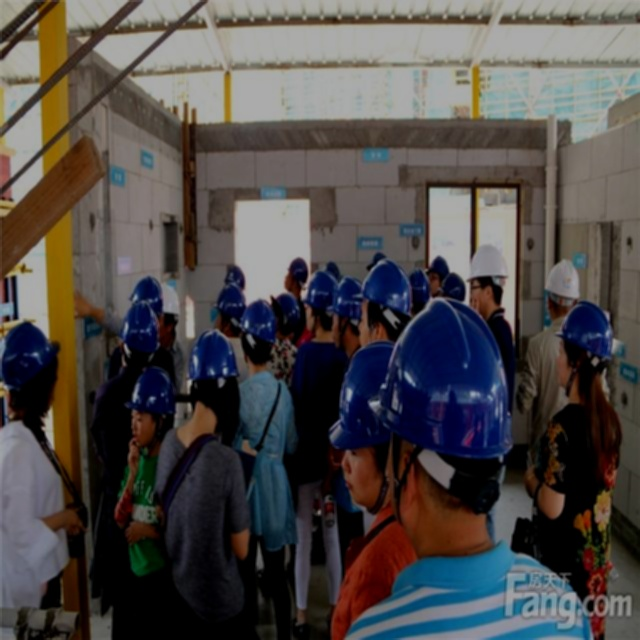Con_Casco: (558, 300, 614, 399), (2, 323, 61, 412), (187, 328, 238, 420), (468, 244, 508, 312)
